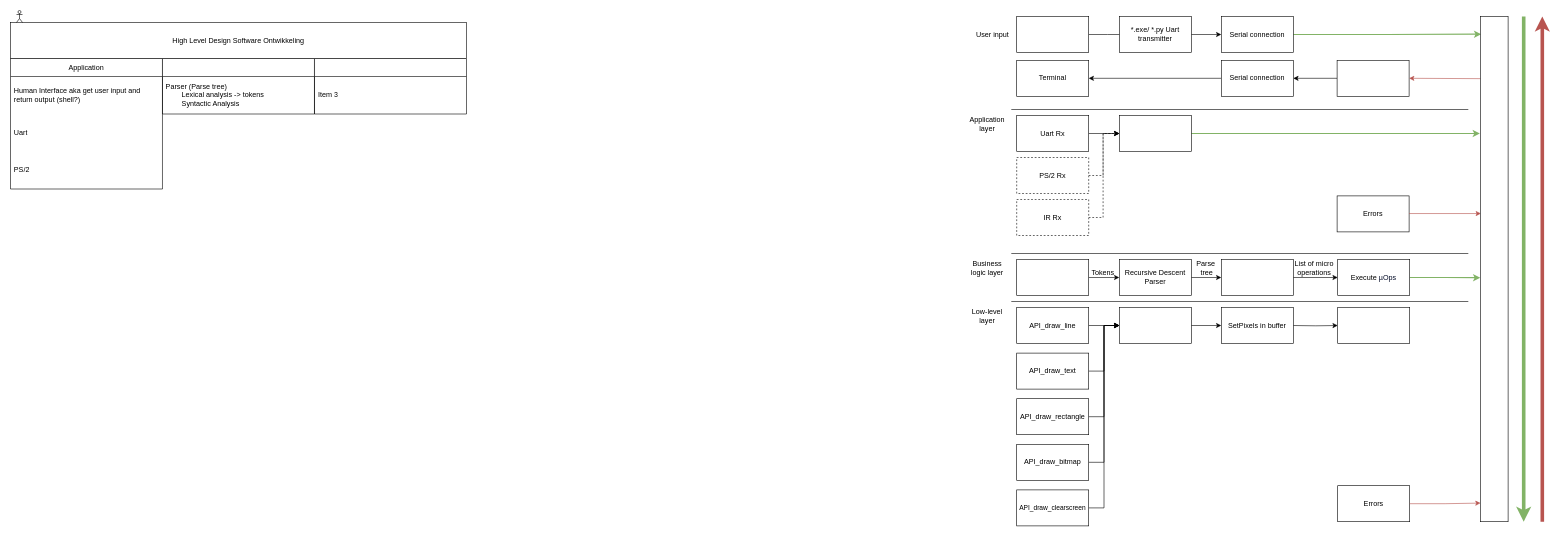
This 1559x539 diagram has some shape labels left out. Each missing label, with the box of its shape:
Buisness: (162, 58, 314, 114)
Calculate pixel positions and colors: (1119, 307, 1191, 344)
Error Handler: (1336, 60, 1409, 96)
Lexer: (1016, 259, 1089, 296)
Low-level API: (314, 58, 466, 114)
Output: (1480, 16, 1508, 522)
Queue: (1119, 115, 1191, 152)
Script in script.txt: (1016, 16, 1089, 52)
VGA Transmit to screen: (1337, 307, 1410, 344)
µOps generation: (1221, 259, 1293, 296)
